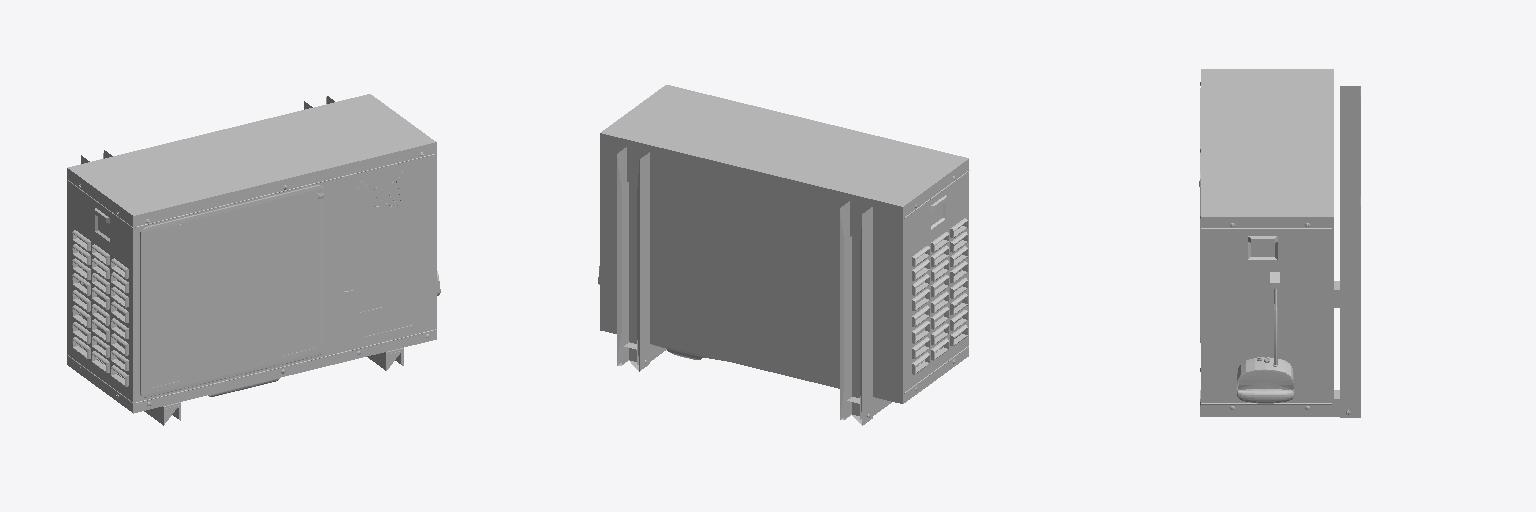
The model's file is aircondi.obj.
The picture shows the model from 3 angles: view 1: azimuth 30°, elevation 25°; view 2: azimuth 150°, elevation 25°; view 3: azimuth 270°, elevation 25°; orthographic projection.
Visible parts, largest first — view 1: Cube_Cube.001, Cube.001_Cube.002, Plane_Plane.001; view 2: Cube_Cube.001, Cube.006, Cube.005; view 3: Cube_Cube.001, Cube.006, Cube.002_Cube, Cube.005, Cube.007.
Boxes of the visible parts, <box> form: Cube_Cube.001: <box>67,94,436,413</box>; Cube.001_Cube.002: <box>140,185,323,397</box>; Plane_Plane.001: <box>338,166,423,222</box>; Cube_Cube.001: <box>600,85,968,403</box>; Cube.006: <box>617,147,649,371</box>; Cube.005: <box>840,201,872,425</box>; Cube_Cube.001: <box>1201,69,1333,413</box>; Cube.006: <box>1340,195,1360,417</box>; Cube.002_Cube: <box>1237,357,1293,403</box>; Cube.005: <box>1340,86,1360,194</box>; Cube.007: <box>1200,390,1339,416</box>.
Bounding box in the file's own units: 5.36 × 3.35 × 2.26.